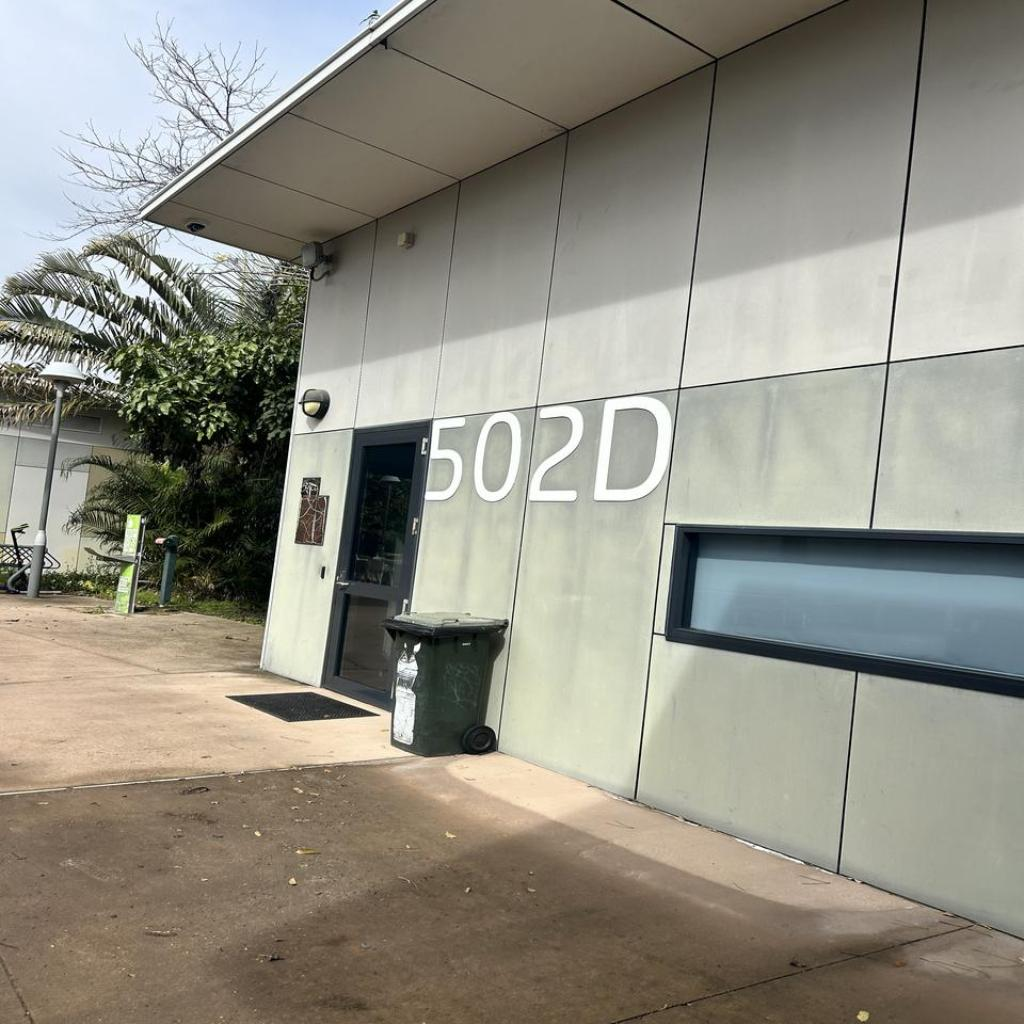BuildingCodes: (416, 387, 680, 505)
